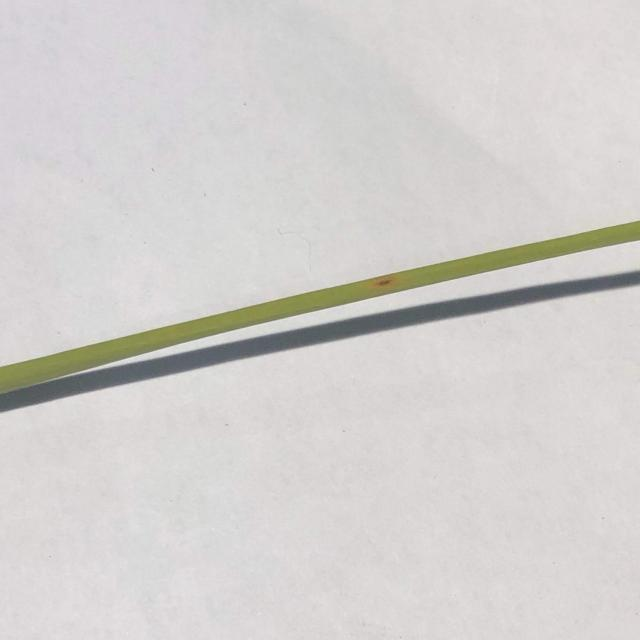brownspots: (376, 271, 400, 293)
